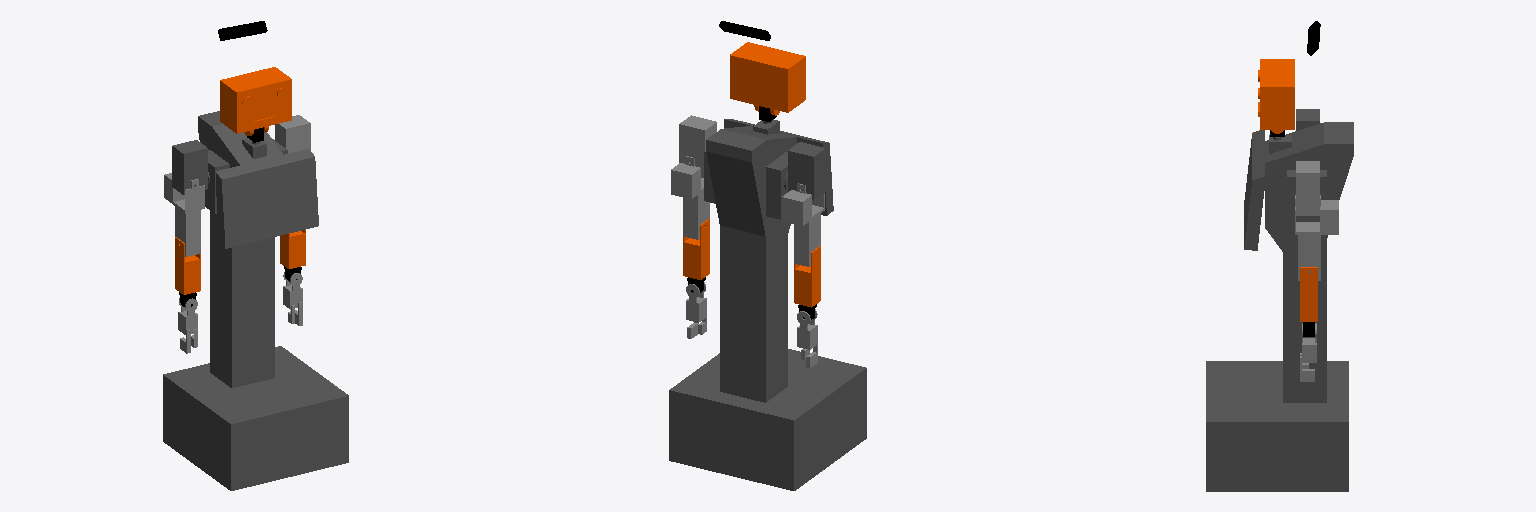
--- Render facts (derived) ---
Views: 3 orthographic renders of the robot side by side, from view 1: azimuth 30°, elevation 25°; view 2: azimuth 150°, elevation 25°; view 3: azimuth 270°, elevation 25°.
Robot: tangymodel_eff — 23 links, 22 joints (18 revolute, 4 fixed); root link base_link; default pose: every joint at zero.
Visible links, largest first — view 1: torso_link, head_link, right_shoulder_pitch_link, lower_right_arm, left_shoulder_pitch_link, upper_right_arm, right_shoulder_roll_link, lower_left_arm, kinect_link, left_hand, right_hand; view 2: torso_link, head_link, right_shoulder_pitch_link, left_shoulder_pitch_link, right_shoulder_roll_link, lower_right_arm, lower_left_arm, left_shoulder_roll_link, upper_right_arm, upper_left_arm, right_hand, left_hand; view 3: torso_link, head_link, left_shoulder_pitch_link, left_shoulder_roll_link, lower_left_arm, upper_left_arm.
Boxes of the visible links, x1=… form: torso_link: x1=163, y1=111, x2=348, y2=490; head_link: x1=220, y1=67, x2=291, y2=135; right_shoulder_pitch_link: x1=172, y1=140, x2=207, y2=194; lower_right_arm: x1=175, y1=237, x2=200, y2=294; left_shoulder_pitch_link: x1=275, y1=115, x2=310, y2=153; upper_right_arm: x1=175, y1=206, x2=200, y2=256; right_shoulder_roll_link: x1=164, y1=173, x2=204, y2=213; lower_left_arm: x1=280, y1=230, x2=305, y2=268; kinect_link: x1=218, y1=21, x2=267, y2=40; left_hand: x1=283, y1=272, x2=302, y2=309; right_hand: x1=178, y1=298, x2=197, y2=334; torso_link: x1=669, y1=119, x2=866, y2=490; head_link: x1=730, y1=42, x2=805, y2=115; right_shoulder_pitch_link: x1=788, y1=142, x2=825, y2=200; left_shoulder_pitch_link: x1=679, y1=115, x2=716, y2=173; right_shoulder_roll_link: x1=782, y1=183, x2=824, y2=226; lower_right_arm: x1=794, y1=246, x2=820, y2=307; lower_left_arm: x1=683, y1=219, x2=709, y2=279; left_shoulder_roll_link: x1=671, y1=156, x2=703, y2=198; upper_right_arm: x1=794, y1=214, x2=820, y2=266; upper_left_arm: x1=683, y1=191, x2=709, y2=239; right_hand: x1=797, y1=309, x2=817, y2=349; left_hand: x1=686, y1=282, x2=706, y2=322; torso_link: x1=1206, y1=122, x2=1353, y2=491; head_link: x1=1258, y1=59, x2=1294, y2=133; left_shoulder_pitch_link: x1=1296, y1=161, x2=1319, y2=215; left_shoulder_roll_link: x1=1295, y1=195, x2=1338, y2=234; lower_left_arm: x1=1300, y1=267, x2=1317, y2=321; upper_left_arm: x1=1298, y1=235, x2=1320, y2=280.
Bounding box of the posed robot: 0.516 × 0.498 × 1.61 m (x, y, z).
Meshes: 19 distinct files referenced, 19 mesh visuals loaded (19 binary STL).

The robot description file, URDF, robot "tangymodel_eff":
<robot
  name="tangymodel_eff">

<!-- ...........................................................Dummy Frame .......................................... -->
  <link
    name="base_link">
    <inertial>
      <origin
        xyz="0 0 0"
        rpy="0 0 0" />
      <mass
        value="0" />
      <inertia
        ixx="0"
        ixy="0"
        ixz="0"
        iyy="0"
        iyz="0"
        izz="0" />
    </inertial>
    <visual>
      <origin
        xyz="0 0 0"
        rpy="0 0 0" />
      <geometry>
        <box size="0.0001 0.0001 0.0001"/>
      </geometry>
      <material
        name="">
        <color
          rgba="0.392 0.392 0.392 1" />
      </material>
    </visual>
    <collision>
      <origin
        xyz="0 0 0"
        rpy="0 0 0" />
      <geometry>
        <box size="0.00001 0.00001 0.00001"/>
      </geometry>
    </collision>
  </link>
  <joint
    name="base_to_torso_link"
    type="fixed">
    <parent
      link="base_link" />
    <child
      link="torso_link" />
    <origin
      xyz="0.16 0.32 0.52"
      rpy="0 0 0" />
    <limit
      lower="0"
      upper="0"
      effort="10"
      velocity="3"/>
  </joint>
  

<!--  ............................................................Torso..................................................   -->

  <link
    name="torso_link">
    <inertial>
      <origin
        xyz="-0.15668 -0.28879 -0.1123"
        rpy="0 0 0" />
      <mass
        value="98.584" />
      <inertia
        ixx="16.47"
        ixy="-0.00095546"
        ixz="0.0055037"
        iyy="16.277"
        iyz="1.152"
        izz="2.8488" />
    </inertial>
    <visual>
      <origin
        xyz="0 0 0"
        rpy="0 0 0" />
      <geometry>
        <mesh
          filename="package://tangymodel_eff/meshes/base_link.STL" />
      </geometry>
      <material
        name="">
        <color
          rgba="0.392 0.392 0.392 1" />
      </material>
    </visual>
    <collision>
      <origin
        xyz="0 0 0"
        rpy="0 0 0" />
      <geometry>
        <mesh
          filename="package://tangymodel_eff/meshes/base_link.STL" />
      </geometry>
    </collision>
  </link>

<!-- ................................................................Head............................................  -->

  <link
    name="neck_link">
    <inertial>
      <origin
        xyz="-5.5511E-17 0.03245 0"
        rpy="0 0 0" />
      <mass
        value="0.11094" />
      <inertia
        ixx="5.0402E-05"
        ixy="-1.3803E-21"
        ixz="-1.5165E-22"
        iyy="3.5718E-05"
        iyz="-1.782E-20"
        izz="4.4646E-05" />
    </inertial>
    <visual>
      <origin
        xyz="0 0 0"
        rpy="0 0 0" />
      <geometry>
        <mesh
          filename="package://tangymodel_eff/meshes/neck_link.STL" />
      </geometry>
      <material
        name="">
        <color
          rgba="0 0 0 1" />
      </material>
    </visual>
    <collision>
      <origin
        xyz="0 0 0"
        rpy="0 0 0" />
      <geometry>
        <mesh
          filename="package://tangymodel_eff/meshes/neck_link.STL" />
      </geometry>
    </collision>
  </link>
  <joint
    name="neck_to_z_revolute"
    type="revolute">
    <origin
      xyz="-0.15677 -0.31736 0.68915"
      rpy="1.5708 0 0" />
    <parent
      link="torso_link" />
    <child
      link="neck_link" />
    <axis
      xyz="0 -1 0" />
    <limit
      lower="-0.7853"
      upper="0.7853"
      effort="10"
      velocity="3" />
  </joint>
  <link
    name="head_link">
    <inertial>
      <origin
        xyz="0.00038888 0.10329 0"
        rpy="0 0 0" />
      <mass
        value="4.4164" />
      <inertia
        ixx="0.028366"
        ixy="1.9027E-06"
        ixz="1.2865E-18"
        iyy="0.023632"
        iyz="1.4521E-19"
        izz="0.015291" />
    </inertial>
    <visual>
      <origin
        xyz="0 0 0"
        rpy="0 0 0" />
      <geometry>
        <mesh
          filename="package://tangymodel_eff/meshes/head_link.STL" />
      </geometry>
      <material
        name="">
        <color
          rgba="1 0.416 0 1" />
      </material>
    </visual>
    <collision>
      <origin
        xyz="0 0 0"
        rpy="0 0 0" />
      <geometry>
        <mesh
          filename="package://tangymodel_eff/meshes/head_link.STL" />
      </geometry>
    </collision>
  </link>
  <joint
    name="z_revolute_to_x_revolute"
    type="revolute">
    <origin
      xyz="0 0.05 0"
      rpy="1.5708 -1.5708 -1.5708" />
    <parent
      link="neck_link" />
    <child
      link="head_link" />
    <axis
      xyz="0 0 1" />
    <limit
      lower="-0.3926"
      upper="0.3926"
      effort="10"
      velocity="3" />
  </joint>


<!-- ..............................................................Right Arm...................................................... -->

  <link
    name="right_shoulder_pitch_link">
    <inertial>
      <origin
        xyz="-0.0050069 0.04493 -0.054937"
        rpy="0 0 0" />
      <mass
        value="1.282" />
      <inertia
        ixx="0.0038059"
        ixy="4.8043E-07"
        ixz="4.9634E-07"
        iyy="0.0017545"
        iyz="-3.6072E-06"
        izz="0.0034183" />
    </inertial>
    <visual>
      <origin
        xyz="0 0 0"
        rpy="0 0 0" />
      <geometry>
        <mesh
          filename="package://tangymodel_eff/meshes/right_shoulder_pitch_link.STL" />
      </geometry>
      <material
        name="">
        <color
          rgba="0.392 0.392 0.392 1" />
      </material>
    </visual>
    <collision>
      <origin
        xyz="0 0 0"
        rpy="0 0 0" />
      <geometry>
        <mesh
          filename="package://tangymodel_eff/meshes/right_shoulder_pitch_link.STL" />
      </geometry>
    </collision>
  </link>
  <joint
    name="right_shoulder_x_revolute"
    type="revolute">
    <origin
      xyz="-0.30977 -0.20989 0.54535"
      rpy="1.5708 0 1.5708" />
    <parent
      link="torso_link" />
    <child
      link="right_shoulder_pitch_link" />
    <axis
      xyz="0 0 -1" />
    <limit
      lower="-0.34907"
      upper="3.35103"
      effort="100"
      velocity="3" />
  </joint>
  <link
    name="right_shoulder_roll_link">
    <inertial>
      <origin
        xyz="-0.01 -0.0637 -0.05109"
        rpy="0 0 0" />
      <mass
        value="0.57779" />
      <inertia
        ixx="0.0013906"
        ixy="-6.7526E-20"
        ixz="-9.213E-21"
        iyy="0.0012248"
        iyz="-0.00011954"
        izz="0.00077311" />
    </inertial>
    <visual>
      <origin
        xyz="0 0 0"
        rpy="0 0 0" />
      <geometry>
        <mesh
          filename="package://tangymodel_eff/meshes/right_shoulder_roll_link.STL" />
      </geometry>
      <material
        name="">
        <color
          rgba="0.588 0.588 0.588 1" />
      </material>
    </visual>
    <collision>
      <origin
        xyz="0 0 0"
        rpy="0 0 0" />
      <geometry>
        <mesh
          filename="package://tangymodel_eff/meshes/right_shoulder_roll_link.STL" />
      </geometry>
    </collision>
  </link>
  <joint
    name="upper_right_arm_y_revolute_joint"
    type="revolute">
    <origin
      xyz="0 0 -0.05"
      rpy="0 -1.5708 0" />
    <parent
      link="right_shoulder_pitch_link" />
    <child
      link="right_shoulder_roll_link" />
    <axis
      xyz="0 0 1" />
    <limit
      lower="-1.9199"
      upper="0"
      effort="100"
      velocity="3" />
  </joint>
  <link
    name="upper_right_arm">
    <inertial>
      <origin
        xyz="1.6669E-05 -0.086496 0"
        rpy="0 0 0" />
      <mass
        value="0.76566" />
      <inertia
        ixx="0.0022039"
        ixy="-6.3819E-07"
        ixz="-4.4538E-20"
        iyy="0.00058852"
        iyz="-1.4684E-19"
        izz="0.0020752" />
    </inertial>
    <visual>
      <origin
        xyz="0 0 0"
        rpy="0 0 0" />
      <geometry>
        <mesh
          filename="package://tangymodel_eff/meshes/upper_right_arm.STL" />
      </geometry>
      <material
        name="">
        <color
          rgba="0.588 0.588 0.588 1" />
      </material>
    </visual>
    <collision>
      <origin
        xyz="0 0 0"
        rpy="0 0 0" />
      <geometry>
        <mesh
          filename="package://tangymodel_eff/meshes/upper_right_arm.STL" />
      </geometry>
    </collision>
  </link>
  <joint
    name="upper_right_arm_z_revolute_joint"
    type="revolute">
    <origin
      xyz="-0.01 -0.11 0"
      rpy="0 0 0" />
    <parent
      link="right_shoulder_roll_link" />
    <child
      link="upper_right_arm" />
    <axis
      xyz="0 -1 0" />
    <limit
      lower="-1.8326"
      upper="1.8326"
      effort="100"
      velocity="3" />
  </joint>
  <link
    name="lower_right_arm">
    <inertial>
      <origin
        xyz="-3.0531E-16 -0.11496 5.5511E-17"
        rpy="0 0 0" />
      <mass
        value="0.57079" />
      <inertia
        ixx="0.0013783"
        ixy="2.3875E-18"
        ixz="-6.9845E-21"
        iyy="0.00043224"
        iyz="-1.2881E-19"
        izz="0.0012882" />
    </inertial>
    <visual>
      <origin
        xyz="0 0 0"
        rpy="0 0 0" />
      <geometry>
        <mesh
          filename="package://tangymodel_eff/meshes/lower_right_arm.STL" />
      </geometry>
      <material
        name="">
        <color
          rgba="1 0.416 0 1" />
      </material>
    </visual>
    <collision>
      <origin
        xyz="0 0 0"
        rpy="0 0 0" />
      <geometry>
        <mesh
          filename="package://tangymodel_eff/meshes/lower_right_arm.STL" />
      </geometry>
    </collision>
  </link>
  <joint
    name="upper_to_lower_right_joint"
    type="revolute">
    <origin
      xyz="0 -0.1365 0"
      rpy="0 1.5708 0" />
    <parent
      link="upper_right_arm" />
    <child
      link="lower_right_arm" />
    <axis
      xyz="0 0 1" />
    <limit
      lower="-2.2515"
      upper="0"
      effort="100"
      velocity="3" />
  </joint>
  <link
    name="right_wrist_link">
    <inertial>
      <origin
        xyz="-9.359E-05 0.031821 5.5511E-17"
        rpy="0 0 0" />
      <mass
        value="0.094409" />
      <inertia
        ixx="3.9877E-05"
        ixy="-1.1645E-07"
        ixz="4.4633E-21"
        iyy="2.5724E-05"
        iyz="-1.1782E-20"
        izz="3.9412E-05" />
    </inertial>
    <visual>
      <origin
        xyz="0 0 0"
        rpy="0 0 0" />
      <geometry>
        <mesh
          filename="package://tangymodel_eff/meshes/right_wrist_link.STL" />
      </geometry>
      <material
        name="">
        <color
          rgba="0 0 0 1" />
      </material>
    </visual>
    <collision>
      <origin
        xyz="0 0 0"
        rpy="0 0 0" />
      <geometry>
        <mesh
          filename="package://tangymodel_eff/meshes/right_wrist_link.STL" />
      </geometry>
    </collision>
  </link>
  <joint
    name="wrist_right_arm_z_revolute_joint"
    type="revolute">
    <origin
      xyz="0 -0.19 0"
      rpy="3.141 0 0" />
    <parent
      link="lower_right_arm" />
    <child
      link="right_wrist_link" />
    <axis
      xyz="0 1 0" />
    <limit
      lower="-1.5708"
      upper="1.5708"
      effort="25"
      velocity="3" />
  </joint>
  <link
    name="right_hand">
    <inertial>
      <origin
        xyz="-5.5511E-17 -2.713E-05 0.061837"
        rpy="0 0 0" />
      <mass
        value="0.19902" />
      <inertia
        ixx="0.00022561"
        ixy="1.0575E-21"
        ixz="9.7799E-21"
        iyy="0.00021686"
        iyz="-1.7907E-07"
        izz="8.8688E-05" />
    </inertial>
    <visual>
      <origin
        xyz="0 0 0"
        rpy="0 0 0" />
      <geometry>
        <mesh
          filename="package://tangymodel_eff/meshes/right_hand.STL" />
      </geometry>
      <material
        name="">
        <color
          rgba="0.588 0.588 0.588 1" />
      </material>
    </visual>
    <collision>
      <origin
        xyz="0 0 0"
        rpy="0 0 0" />
      <geometry>
        <mesh
          filename="package://tangymodel_eff/meshes/right_hand.STL" />
      </geometry>
    </collision>
  </link>
  <joint
    name="lower_to_wrist_right_arm"
    type="revolute">
    <origin
      xyz="0 0.05 0"
      rpy="-1.5708 -1.5708 0" />
    <parent
      link="right_wrist_link" />
    <child
      link="right_hand" />
    <axis
      xyz="0 -1 0" />
    <limit
      lower="-1.0472"
      upper="1.48353"
      effort="0"
      velocity="0" />
  </joint>
  <link
    name="right_top_fingers">
    <inertial>
      <origin
        xyz="-0.0072645 -5.5511E-17 0.055647"
        rpy="0 0 0" />
      <mass
        value="0.033357" />
      <inertia
        ixx="1.0957E-05"
        ixy="2.9435E-21"
        ixz="2.9379E-06"
        iyy="1.8112E-05"
        iyz="-8.2775E-22"
        izz="8.4159E-06" />
    </inertial>
    <visual>
      <origin
        xyz="0 0 0"
        rpy="0 0 0" />
      <geometry>
        <mesh
          filename="package://tangymodel_eff/meshes/right_top_fingers.STL" />
      </geometry>
      <material
        name="">
        <color
          rgba="0.588 0.588 0.588 1" />
      </material>
    </visual>
    <collision>
      <origin
        xyz="0 0 0"
        rpy="0 0 0" />
      <geometry>
        <mesh
          filename="package://tangymodel_eff/meshes/right_top_fingers.STL" />
      </geometry>
    </collision>
  </link>
  <joint
    name="wrist_to_finger1_right_arm"
    type="revolute">
    <origin
      xyz="0.015 0 0.095"
      rpy="0 0 1.5708" />
    <parent
      link="right_hand" />
    <child
      link="right_top_fingers" />
    <axis
      xyz="1 0 0" />
    <limit
      lower="-0.68"
      upper="0"
      effort="50"
      velocity="3" />
  </joint>
  <link
    name="right_bottom_fingers">
    <inertial>
      <origin
        xyz="0.016728 0.042728 0"
        rpy="0 0 0" />
      <mass
        value="0.018277" />
      <inertia
        ixx="4.798E-06"
        ixy="-9.3943E-07"
        ixz="-1.8907E-22"
        iyy="1.8711E-06"
        iyz="9.6009E-22"
        izz="5.9803E-06" />
    </inertial>
    <visual>
      <origin
        xyz="0 0 0"
        rpy="0 0 0" />
      <geometry>
        <mesh
          filename="package://tangymodel_eff/meshes/right_bottom_fingers.STL" />
      </geometry>
      <material
        name="">
        <color
          rgba="0.588 0.588 0.588 1" />
      </material>
    </visual>
    <collision>
      <origin
        xyz="0 0 0"
        rpy="0 0 0" />
      <geometry>
        <mesh
          filename="package://tangymodel_eff/meshes/right_bottom_fingers.STL" />
      </geometry>
    </collision>
  </link>
  <joint
    name="wrist_to_finger2_right_arm"
    type="revolute">
    <origin
      xyz="-0.015 0 0.095"
      rpy="1.5708 0 -1.5708" />
    <parent
      link="right_hand" />
    <child
      link="right_bottom_fingers" />
    <axis
      xyz="-1 0 0" />
    <limit
      lower="0"
      upper="0.68"
      effort="50"
      velocity="3" />
  </joint>


<!-- .................................................................Left Shoulder.............................................  -->

  <link
    name="left_shoulder_pitch_link">
    <inertial>
      <origin
        xyz="0.0050069 0.04493 -0.051164"
        rpy="0 0 0" />
      <mass
        value="1.282" />
      <inertia
        ixx="0.0038059"
        ixy="-4.8043E-07"
        ixz="-4.9634E-07"
        iyy="0.0017545"
        iyz="-3.6072E-06"
        izz="0.0034183" />
    </inertial>
    <visual>
      <origin
        xyz="0 0 0"
        rpy="0 0 0" />
      <geometry>
        <mesh
          filename="package://tangymodel_eff/meshes/left_shoulder_pitch_link.STL" />
      </geometry>
      <material
        name="">
        <color
          rgba="0.588 0.588 0.588 1" />
      </material>
    </visual>
    <collision>
      <origin
        xyz="0 0 0"
        rpy="0 0 0" />
      <geometry>
        <mesh
          filename="package://tangymodel_eff/meshes/left_shoulder_pitch_link.STL" />
      </geometry>
    </collision>
  </link>
  <joint
    name="left_shoulder_x_revolute"
    type="revolute">
    <origin
      xyz="0 -0.20989 0.54535"
      rpy="1.5708 0 -1.5708" />
    <parent
      link="torso_link" />
    <child
      link="left_shoulder_pitch_link" />
    <axis
      xyz="0 0 1" />
    <limit
      lower="-0.34907"
      upper="3.35103"
      effort="100"
      velocity="3" />
  </joint>
  <link
    name="left_shoulder_roll_link">
    <inertial>
      <origin
        xyz="0.0062272 -0.0637 -0.05109"
        rpy="0 0 0" />
      <mass
        value="0.57779" />
      <inertia
        ixx="0.0013906"
        ixy="4.8396E-20"
        ixz="-2.5898E-19"
        iyy="0.0012248"
        iyz="-0.00011954"
        izz="0.00077311" />
    </inertial>
    <visual>
      <origin
        xyz="0 0 0"
        rpy="0 0 0" />
      <geometry>
        <mesh
          filename="package://tangymodel_eff/meshes/left_shoulder_roll_link.STL" />
      </geometry>
      <material
        name="">
        <color
          rgba="0.588 0.588 0.588 1" />
      </material>
    </visual>
    <collision>
      <origin
        xyz="0 0 0"
        rpy="0 0 0" />
      <geometry>
        <mesh
          filename="package://tangymodel_eff/meshes/left_shoulder_roll_link.STL" />
      </geometry>
    </collision>
  </link>
  <joint
    name="upper_left_arm_y_revolute_joint"
    type="revolute">
    <origin
      xyz="0 0 -0.05"
      rpy="0 1.5708 0" />
    <parent
      link="left_shoulder_pitch_link" />
    <child
      link="left_shoulder_roll_link" />
    <axis
      xyz="0 0 -1" />
    <limit
      lower="-1.9198"
      upper="0"
      effort="100"
      velocity="3" />
  </joint>
  <link
    name="upper_left_arm">
    <inertial>
      <origin
        xyz="1.6671E-05 -0.085974 -8.3267E-17"
        rpy="0 0 0" />
      <mass
        value="0.76557" />
      <inertia
        ixx="0.0022032"
        ixy="-6.3806E-07"
        ixz="-7.4539E-20"
        iyy="0.00058852"
        iyz="1.3527E-18"
        izz="0.0020746" />
    </inertial>
    <visual>
      <origin
        xyz="0 0 0"
        rpy="0 0 0" />
      <geometry>
        <mesh
          filename="package://tangymodel_eff/meshes/upper_left_arm.STL" />
      </geometry>
      <material
        name="">
        <color
          rgba="0.588 0.588 0.588 1" />
      </material>
    </visual>
    <collision>
      <origin
        xyz="0 0 0"
        rpy="0 0 0" />
      <geometry>
        <mesh
          filename="package://tangymodel_eff/meshes/upper_left_arm.STL" />
      </geometry>
    </collision>
  </link>
  <joint
    name="upper_left_arm_z_revolute_joint"
    type="revolute">
    <origin
      xyz="0.0062272 -0.11003 0"
      rpy="0 0 0" />
    <parent
      link="left_shoulder_roll_link" />
    <child
      link="upper_left_arm" />
    <axis
      xyz="0 1 0" />
    <limit
      lower="-1.8326"
      upper="1.8326"
      effort="100"
      velocity="3" />
  </joint>
  <link
    name="lower_left_arm">
    <inertial>
      <origin
        xyz="-1.3878E-16 -0.11496 8.9512E-16"
        rpy="0 0 0" />
      <mass
        value="0.57079" />
      <inertia
        ixx="0.0013783"
        ixy="7.8732E-19"
        ixz="1.3553E-19"
        iyy="0.00043224"
        iyz="-6.3072E-18"
        izz="0.0012882" />
    </inertial>
    <visual>
      <origin
        xyz="0 0 0"
        rpy="0 0 0" />
      <geometry>
        <mesh
          filename="package://tangymodel_eff/meshes/lower_left_arm.STL" />
      </geometry>
      <material
        name="">
        <color
          rgba="1 0.416 0 1" />
      </material>
    </visual>
    <collision>
      <origin
        xyz="0 0 0"
        rpy="0 0 0" />
      <geometry>
        <mesh
          filename="package://tangymodel_eff/meshes/lower_left_arm.STL" />
      </geometry>
    </collision>
  </link>
  <joint
    name="upper_to_lower_left_joint"
    type="revolute">
    <origin
      xyz="0 -0.13597 0"
      rpy="0 -1.5708 0" />
    <parent
      link="upper_left_arm" />
    <child
      link="lower_left_arm" />
    <axis
      xyz="0 0 -1" />
    <limit
      lower="-2.2515"
      upper="0"
      effort="100"
      velocity="3" />
  </joint>
  <link
    name="left_wrist_link">
    <inertial>
      <origin
        xyz="-9.359E-05 0.031809 -9.0206E-17"
        rpy="0 0 0" />
      <mass
        value="0.094409" />
      <inertia
        ixx="3.9877E-05"
        ixy="-1.1645E-07"
        ixz="-2.8058E-21"
        iyy="2.5724E-05"
        iyz="-3.121E-20"
        izz="3.9412E-05" />
    </inertial>
    <visual>
      <origin
        xyz="0 0 0"
        rpy="0 0 0" />
      <geometry>
        <mesh
          filename="package://tangymodel_eff/meshes/left_wrist_link.STL" />
      </geometry>
      <material
        name="">
        <color
          rgba="0 0 0 1" />
      </material>
    </visual>
    <collision>
      <origin
        xyz="0 0 0"
        rpy="0 0 0" />
      <geometry>
        <mesh
          filename="package://tangymodel_eff/meshes/left_wrist_link.STL" />
      </geometry>
    </collision>
  </link>
  <joint
    name="wrist_left_arm_z_revolute_joint"
    type="revolute">
    <origin
      xyz="0 -0.19001 0"
      rpy="3.141 0 0" />
    <parent
      link="lower_left_arm" />
    <child
      link="left_wrist_link" />
    <axis
      xyz="0 -1 0" />
    <limit
      lower="-1.5708"
      upper="1.5708"
      effort="25"
      velocity="3" />
  </joint>
  <link
    name="left_hand">
    <inertial>
      <origin
        xyz="0 -2.713E-05 0.061825"
        rpy="0 0 0" />
      <mass
        value="0.19902" />
      <inertia
        ixx="0.00022561"
        ixy="-4.5316E-20"
        ixz="8.7405E-20"
        iyy="0.00021686"
        iyz="-1.7907E-07"
        izz="8.8688E-05" />
    </inertial>
    <visual>
      <origin
        xyz="0 0 0"
        rpy="0 0 0" />
      <geometry>
        <mesh
          filename="package://tangymodel_eff/meshes/left_hand.STL" />
      </geometry>
      <material
        name="">
        <color
          rgba="0.588 0.588 0.588 1" />
      </material>
    </visual>
    <collision>
      <origin
        xyz="0 0 0"
        rpy="0 0 0" />
      <geometry>
        <mesh
          filename="package://tangymodel_eff/meshes/left_hand.STL" />
      </geometry>
    </collision>
  </link>
  <joint
    name="lower_to_wrist_left_arm"
    type="revolute">
    <origin
      xyz="0 0.05 0"
      rpy="-1.5708 1.5708 0" />
    <parent
      link="left_wrist_link" />
    <child
      link="left_hand" />
    <axis
      xyz="0 1 0" />
    <limit
      lower="-1.0472"
      upper="1.48353"
      effort="25"
      velocity="3" />
  </joint>
  <link
    name="left_top_fingers">
    <inertial>
      <origin
        xyz="-0.0072645 0 0.055647"
        rpy="0 0 0" />
      <mass
        value="0.033357" />
      <inertia
        ixx="1.0957E-05"
        ixy="-1.8449E-20"
        ixz="2.9379E-06"
        iyy="1.8112E-05"
        iyz="-7.0054E-21"
        izz="8.4159E-06" />
    </inertial>
    <visual>
      <origin
        xyz="0 0 0"
        rpy="0 0 0" />
      <geometry>
        <mesh
          filename="package://tangymodel_eff/meshes/left_top_fingers.STL" />
      </geometry>
      <material
        name="">
        <color
          rgba="0.588 0.588 0.588 1" />
      </material>
    </visual>
    <collision>
      <origin
        xyz="0 0 0"
        rpy="0 0 0" />
      <geometry>
        <mesh
          filename="package://tangymodel_eff/meshes/left_top_fingers.STL" />
      </geometry>
    </collision>
  </link>
  <joint
    name="wrist_to_finger1_left_arm"
    type="revolute">
    <origin
      xyz="-0.015 0 0.094988"
      rpy="0 0 1.5708" />
    <parent
      link="left_hand" />
    <child
      link="left_top_fingers" />
    <axis
      xyz="1 0 0" />
    <limit
      lower="-0.68"
      upper="0"
      effort="10"
      velocity="3" />
  </joint>
  <link
    name="left_bottom_fingers">
    <inertial>
      <origin
        xyz="0.0167281620288509 -0.0427282906188924 -4.85722573273506E-17"
        rpy="0 0 0" />
      <mass
        value="0.0182768252295753" />
      <inertia
        ixx="4.7979749986511E-06"
        ixy="9.39430284405547E-07"
        ixz="-2.39551505395357E-21"
        iyy="1.87112397057946E-06"
        iyz="-2.00425862421599E-21"
        izz="5.98034326538814E-06" />
    </inertial>
    <visual>
      <origin
        xyz="0 0 0"
        rpy="0 0 0" />
      <geometry>
        <mesh
          filename="package://tangymodel_eff/meshes/left_bottom_fingers.STL" />
      </geometry>
      <material
        name="">
        <color
          rgba="0.588 0.588 0.588 1" />
      </material>
    </visual>
    <collision>
      <origin
        xyz="0 0 0"
        rpy="0 0 0" />
      <geometry>
        <mesh
          filename="package://tangymodel_eff/meshes/left_bottom_fingers.STL" />
      </geometry>
    </collision>
  </link>
  <joint
    name="wrist_to_finger2_left_arm"
    type="revolute">
    <origin
      xyz="0.015 0 0.094988"
      rpy="-1.5708 0 -1.5708" />
    <parent
      link="left_hand" />
    <child
      link="left_bottom_fingers" />
    <axis
      xyz="-1 0 0" />
    <limit
      lower="0"
      upper="0.68"
      effort="10"
      velocity="3" />
  </joint>


<!-- ............................................................Kinect Sensor................................................ -->

  <joint name="kinect_joint" type="fixed">
    <limit effort="1000.0" lower="0" upper="0" velocity="0"/>
    <parent link="base_link"/>
    <child link="kinect_link"/>
    <origin rpy="0.05 2.443 -1.5705" xyz="0.02 0.125 1.58"/>
  </joint>
  <link name="kinect_link">
    <visual>
      <geometry>
        <box size="0.02 0.18 0.04"/>
      </geometry>
      <material name="grey">
        <color rgba="0 0 0 0.5"/>
      </material>
    </visual>
    <collision>
      <geometry>
        <box size="0.0001 0.0001 0.0001"/>
      </geometry>
    </collision>
    <inertial>
      <mass value="0.01"/>
      <inertia ixx=".0001" ixy="0.0" ixz="0.0" iyy=".0001" iyz="0.0" izz=".0001"/>
    </inertial>
  </link>
  <joint name="kinect_depth_joint" type="fixed">
    <limit effort="1000.0" lower="0" upper="0" velocity="0"/>
    <parent link="kinect_link"/>
    <child link="kinect_depth_frame"/>
    <origin rpy="0 -0.05 -1.5705" xyz="0 0 0"/>
  </joint>
  <link name="kinect_depth_frame" >
    <visual>
      <geometry>
        <box size="0.0001 0.0001 0.0001"/>
      </geometry>
      <material name="grey">
        <color rgba="0 0 0 0.5"/>
      </material>
    </visual>
    <collision>
      <geometry>
        <box size="0.0001 0.0001 0.0001"/>
      </geometry>
    </collision>
    <inertial>
      <mass value="0.01"/>
      <inertia ixx=".0001" ixy="0.0" ixz="0.0" iyy=".0001" iyz="0.0" izz=".0001"/>
    </inertial>
  </link>
  <joint name="kinect_optical_joint" type="fixed">
    <origin rpy="0 0.0 0" xyz="0 0.001 0"/>
    <parent link="kinect_depth_frame"/>
    <child link="kinect_rgb_optical_frame"/>
  </joint>
  <link name="kinect_rgb_optical_frame" >
    <visual>
      <geometry>
        <box size="0.0001 0.0001 0.0001"/>
      </geometry>
      <material name="grey">
        <color rgba="0 0 0 0.5"/>
      </material>
    </visual>
    <collision>
      <geometry>
        <box size="0.0001 0.0001 0.0001"/>
      </geometry>
    </collision>
    <inertial>
      <mass value="0.01"/>
      <inertia ixx=".0001" ixy="0.0" ixz="0.0" iyy=".0001" iyz="0.0" izz=".0001"/>
    </inertial>
  </link>
</robot>
